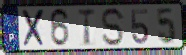5: (155, 7, 177, 46), (129, 8, 150, 46)
6: (49, 7, 72, 50)
S: (100, 7, 126, 48)
T: (77, 7, 97, 48)
X: (21, 8, 47, 49)
